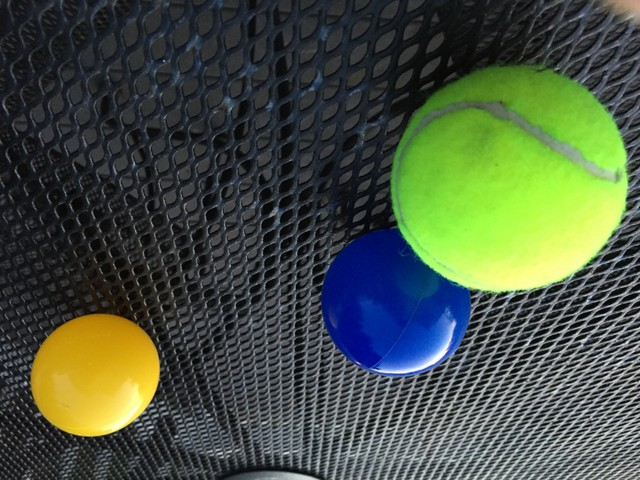Ball: (29, 313, 161, 436)
